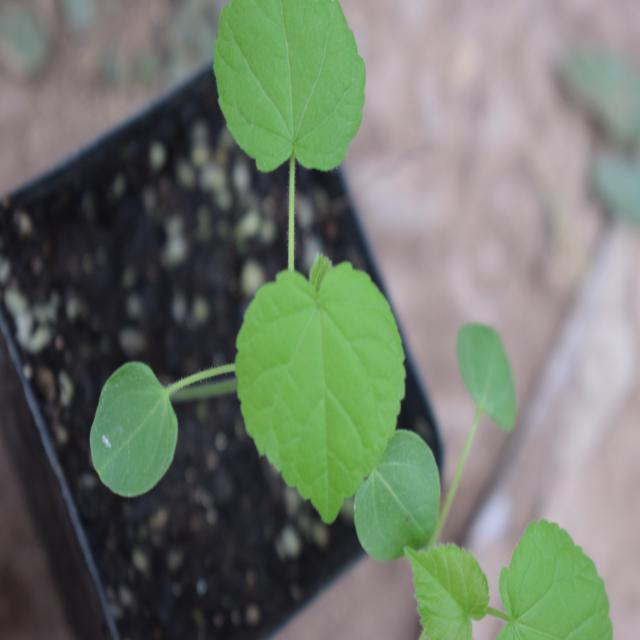abutilon theophrasti: (88, 0, 460, 555)
